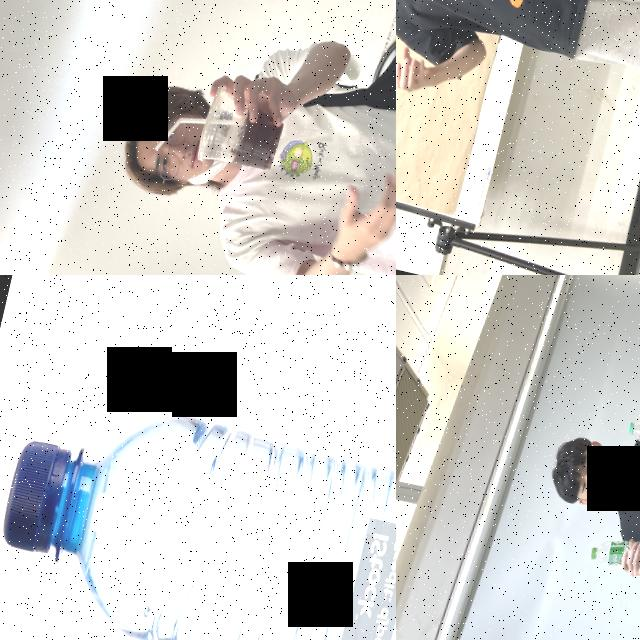bottle: (0, 376, 396, 640), (589, 526, 640, 576), (625, 414, 640, 453)
cup: (193, 80, 291, 176)
